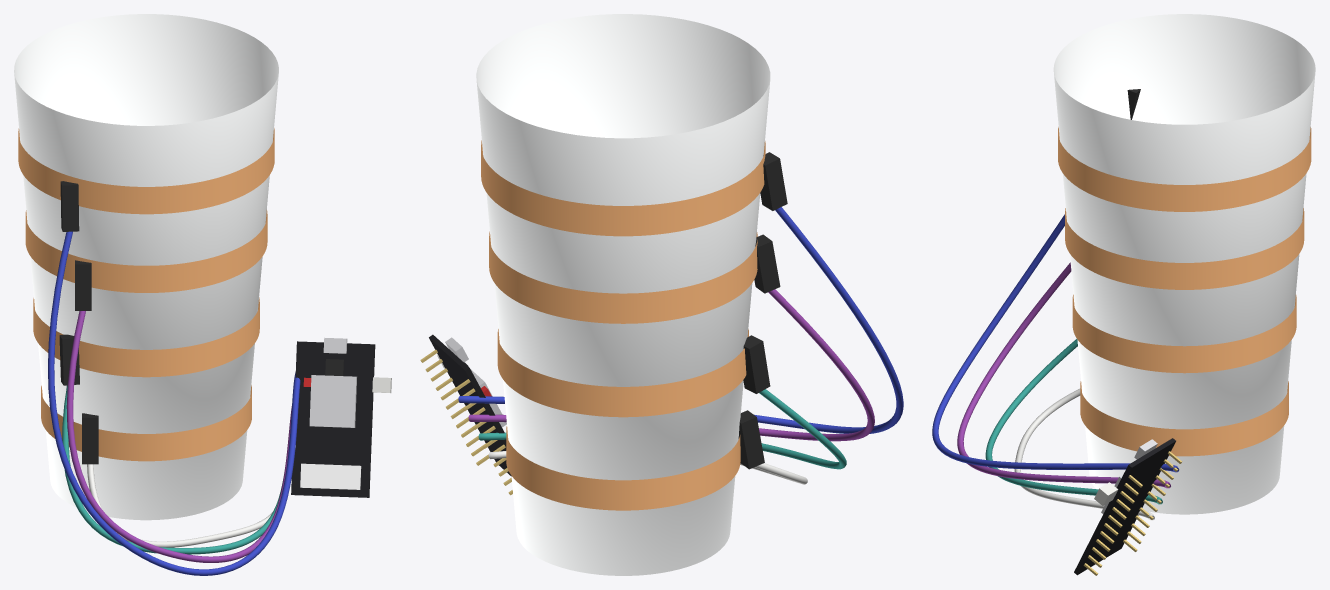
File: pintglass.glb
The picture shows the model from 3 angles, left to right: view 1: azimuth 30°, elevation 25°; view 2: azimuth 150°, elevation 25°; view 3: azimuth 270°, elevation 25°; orthographic projection. The views are drawn at different scales.
Parts seen in each view (by area): view 1: Glass, ESP_PCB, CopperBand_0, CopperBand_1, CopperBand_2, CopperBand_3, W_blue, W_purple, ESP_Shield, W_teal, ESP_Antenna, W_white (+4 smaller); view 2: Glass, CopperBand_0, CopperBand_1, CopperBand_2, CopperBand_3, W_blue, W_purple, ESP_PCB, W_teal, Dupont_2, Dupont_3, Dupont_0 (+2 smaller); view 3: Glass, CopperBand_0, CopperBand_1, CopperBand_2, CopperBand_3, ESP_PCB, W_blue, W_purple, W_teal, W_white.
Part boxes in pixels (bbox=[...]): Glass: bbox=[14, 14, 278, 520]; ESP_PCB: bbox=[291, 341, 375, 497]; CopperBand_0: bbox=[18, 128, 274, 214]; CopperBand_1: bbox=[25, 210, 267, 292]; CopperBand_2: bbox=[33, 297, 259, 377]; CopperBand_3: bbox=[41, 385, 251, 461]; W_blue: bbox=[48, 231, 300, 575]; W_purple: bbox=[66, 311, 291, 562]; ESP_Shield: bbox=[309, 375, 356, 427]; W_teal: bbox=[62, 385, 283, 554]; ESP_Antenna: bbox=[300, 463, 361, 489]; W_white: bbox=[87, 445, 295, 547]; Glass: bbox=[476, 14, 770, 575]; CopperBand_0: bbox=[481, 140, 765, 236]; CopperBand_1: bbox=[489, 231, 757, 323]; CopperBand_2: bbox=[497, 329, 748, 417]; CopperBand_3: bbox=[506, 426, 740, 510]; W_blue: bbox=[458, 207, 903, 433]; W_purple: bbox=[468, 289, 874, 441]; ESP_PCB: bbox=[429, 334, 511, 476]; W_teal: bbox=[478, 389, 846, 469]; Dupont_2: bbox=[743, 335, 770, 393]; Dupont_3: bbox=[738, 410, 764, 469]; Dupont_0: bbox=[760, 152, 787, 210]; Glass: bbox=[1053, 14, 1315, 514]; CopperBand_0: bbox=[1058, 127, 1311, 211]; CopperBand_1: bbox=[1065, 208, 1304, 289]; CopperBand_2: bbox=[1072, 294, 1296, 373]; CopperBand_3: bbox=[1080, 381, 1288, 456]; ESP_PCB: bbox=[1074, 438, 1175, 575]; W_blue: bbox=[932, 214, 1179, 472]; W_purple: bbox=[957, 262, 1170, 488]; W_teal: bbox=[985, 339, 1162, 504]; W_white: bbox=[1014, 388, 1154, 520].
Bounding box in the file's own units: 0.1428 × 0.1573 × 0.1287.
